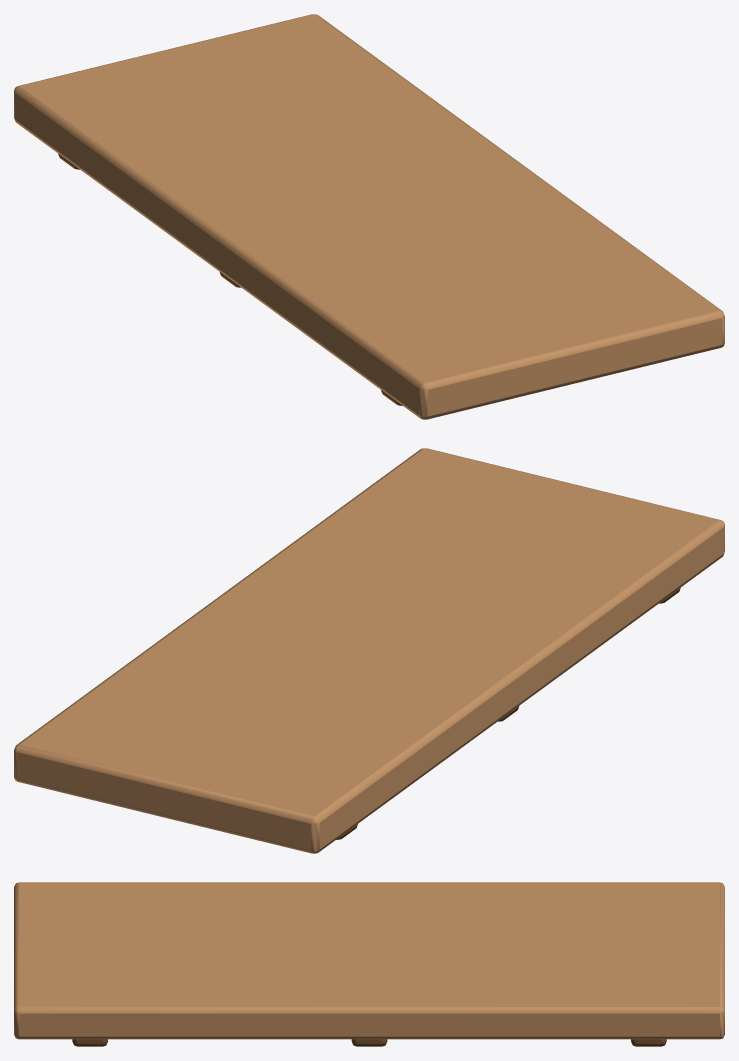
The model's file is wood_board-D0Dl-pLb.glb.
The picture shows the model from 3 angles, top to bottom: view 1: azimuth 30°, elevation 25°; view 2: azimuth 150°, elevation 25°; view 3: azimuth 270°, elevation 25°; orthographic projection. The views are drawn at different scales.
Visible parts, largest first — view 1: body; view 2: body; view 3: body.
Boxes of the visible parts, <box> form: body: <box>14,14,724,419</box>; body: <box>14,448,724,853</box>; body: <box>14,882,724,1046</box>.
Size of the model in its own units: 1.2 by 0.19 by 2.8.
